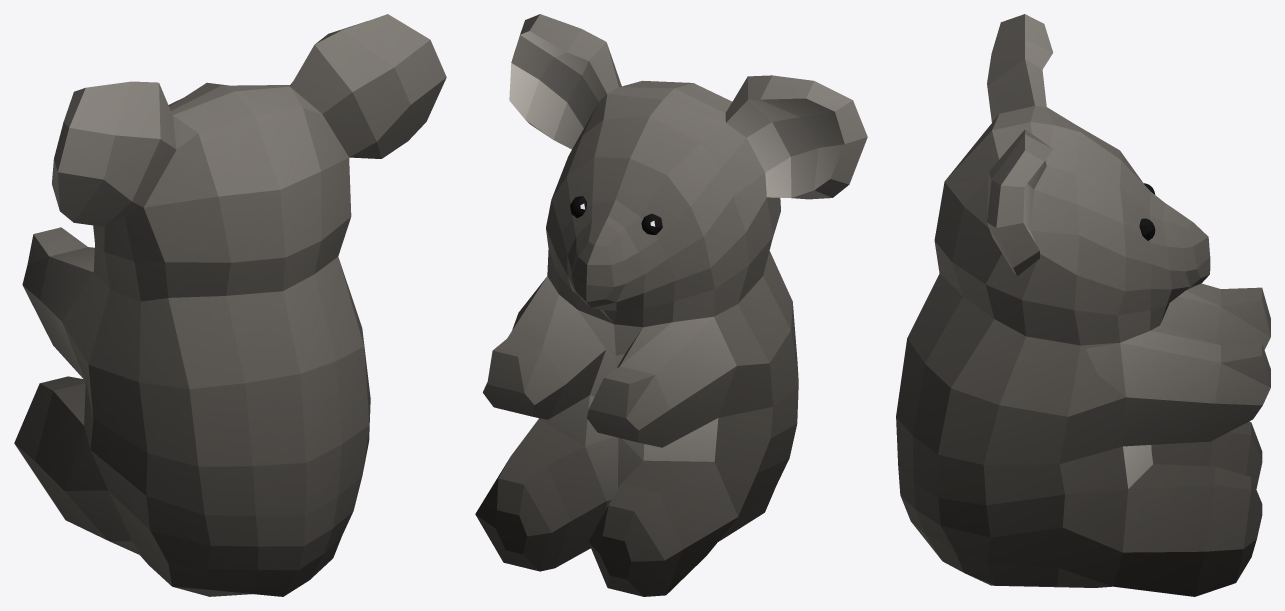
File: koala_export_1 (1).fbx
3 views of the same model, side by side, from view 1: azimuth 30°, elevation 25°; view 2: azimuth 150°, elevation 25°; view 3: azimuth 270°, elevation 25° (orthographic). The views are drawn at different scales.
Parts seen in each view (by area): view 1: koala_1, koala_2; view 2: koala_1, koala_2, R_eye; view 3: koala_1, koala_2.
Part boxes in pixels (bbox=[...]): koala_1: bbox=[14, 14, 446, 596]; koala_2: bbox=[22, 227, 94, 380]; koala_1: bbox=[475, 14, 867, 596]; koala_2: bbox=[483, 276, 736, 447]; R_eye: bbox=[570, 196, 662, 234]; koala_1: bbox=[896, 14, 1262, 596]; koala_2: bbox=[1086, 283, 1270, 446].
Bounding box in the file's own units: 5.04 × 6.5 × 4.54.
